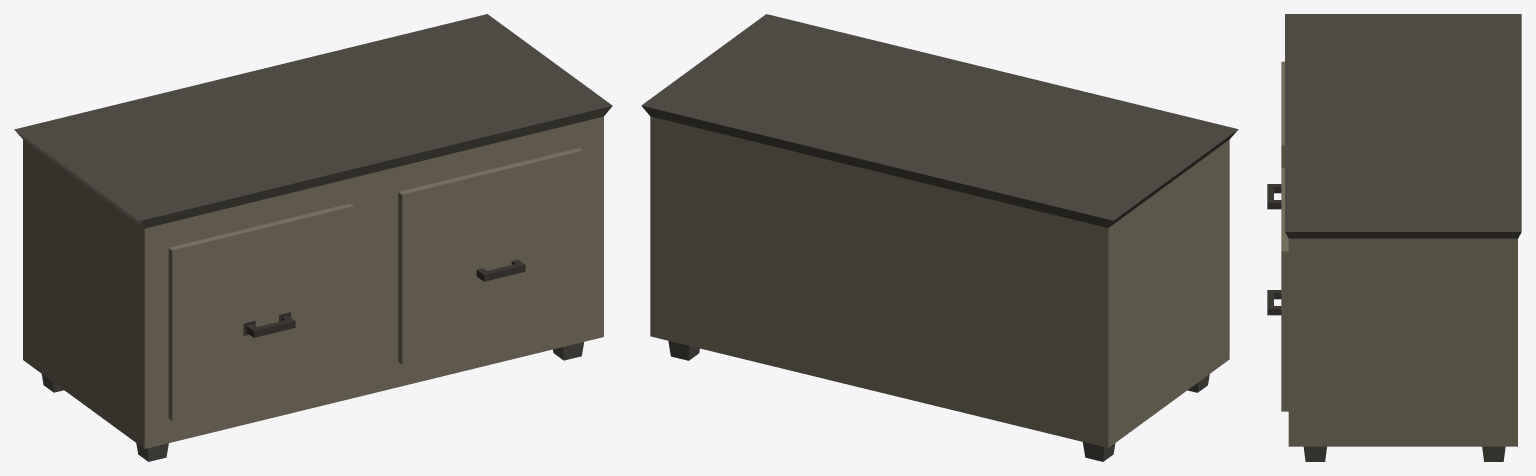
Rendered from meuble salle de bain.fbx.
3 renders of one model, left to right at view 1: azimuth 30°, elevation 25°; view 2: azimuth 150°, elevation 25°; view 3: azimuth 270°, elevation 25°, orthographic. The views are drawn at different scales.
Parts seen in each view (by area): view 1: Plane.002; view 2: Plane.002; view 3: Plane.002.
Boxes of the visible parts, x1,y1,x2,y2 form: Plane.002: (14, 14, 612, 461); Plane.002: (641, 14, 1238, 461); Plane.002: (1267, 14, 1521, 461).
Bounding box in the file's own units: 225 × 115 × 111.
